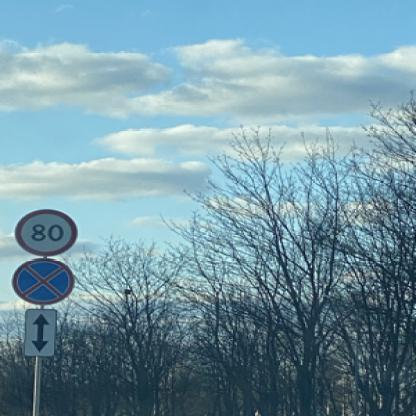speedlimit: (13, 207, 78, 255)
